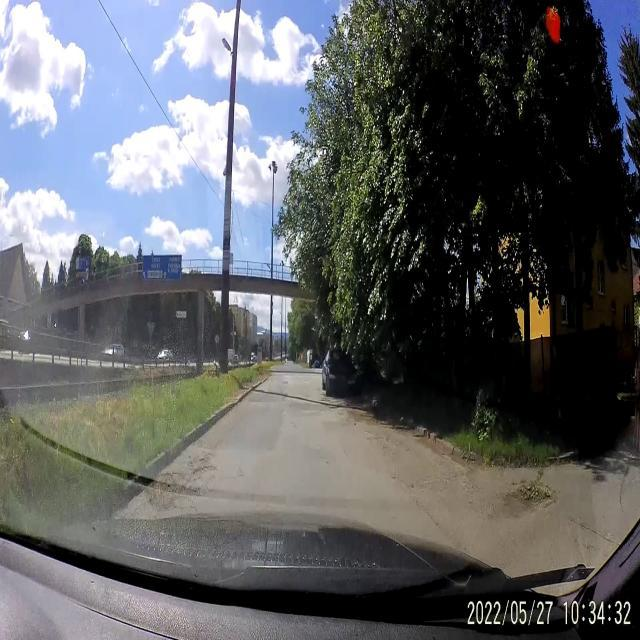Pothole: (150, 468, 203, 506), (186, 452, 218, 474)
